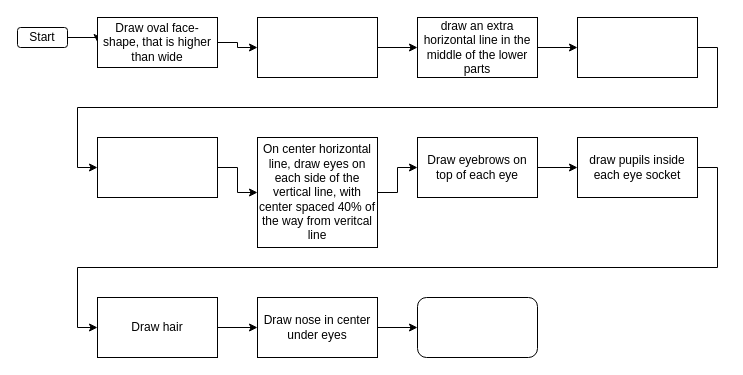
This 743x375 diagram has some shape labels left out. Here are the shapes that lost their labels. From the top down, the centre of each, then its label:
[317,47]: Draw lines vertically and horizontally so that you get 4 equally sized parts
[637,47]: from last line and up, draw a stretched out Mcdonalds logo upside down
[157,167]: Once again, divide lowest part in two and draw mouth on top
[477,327]: End
